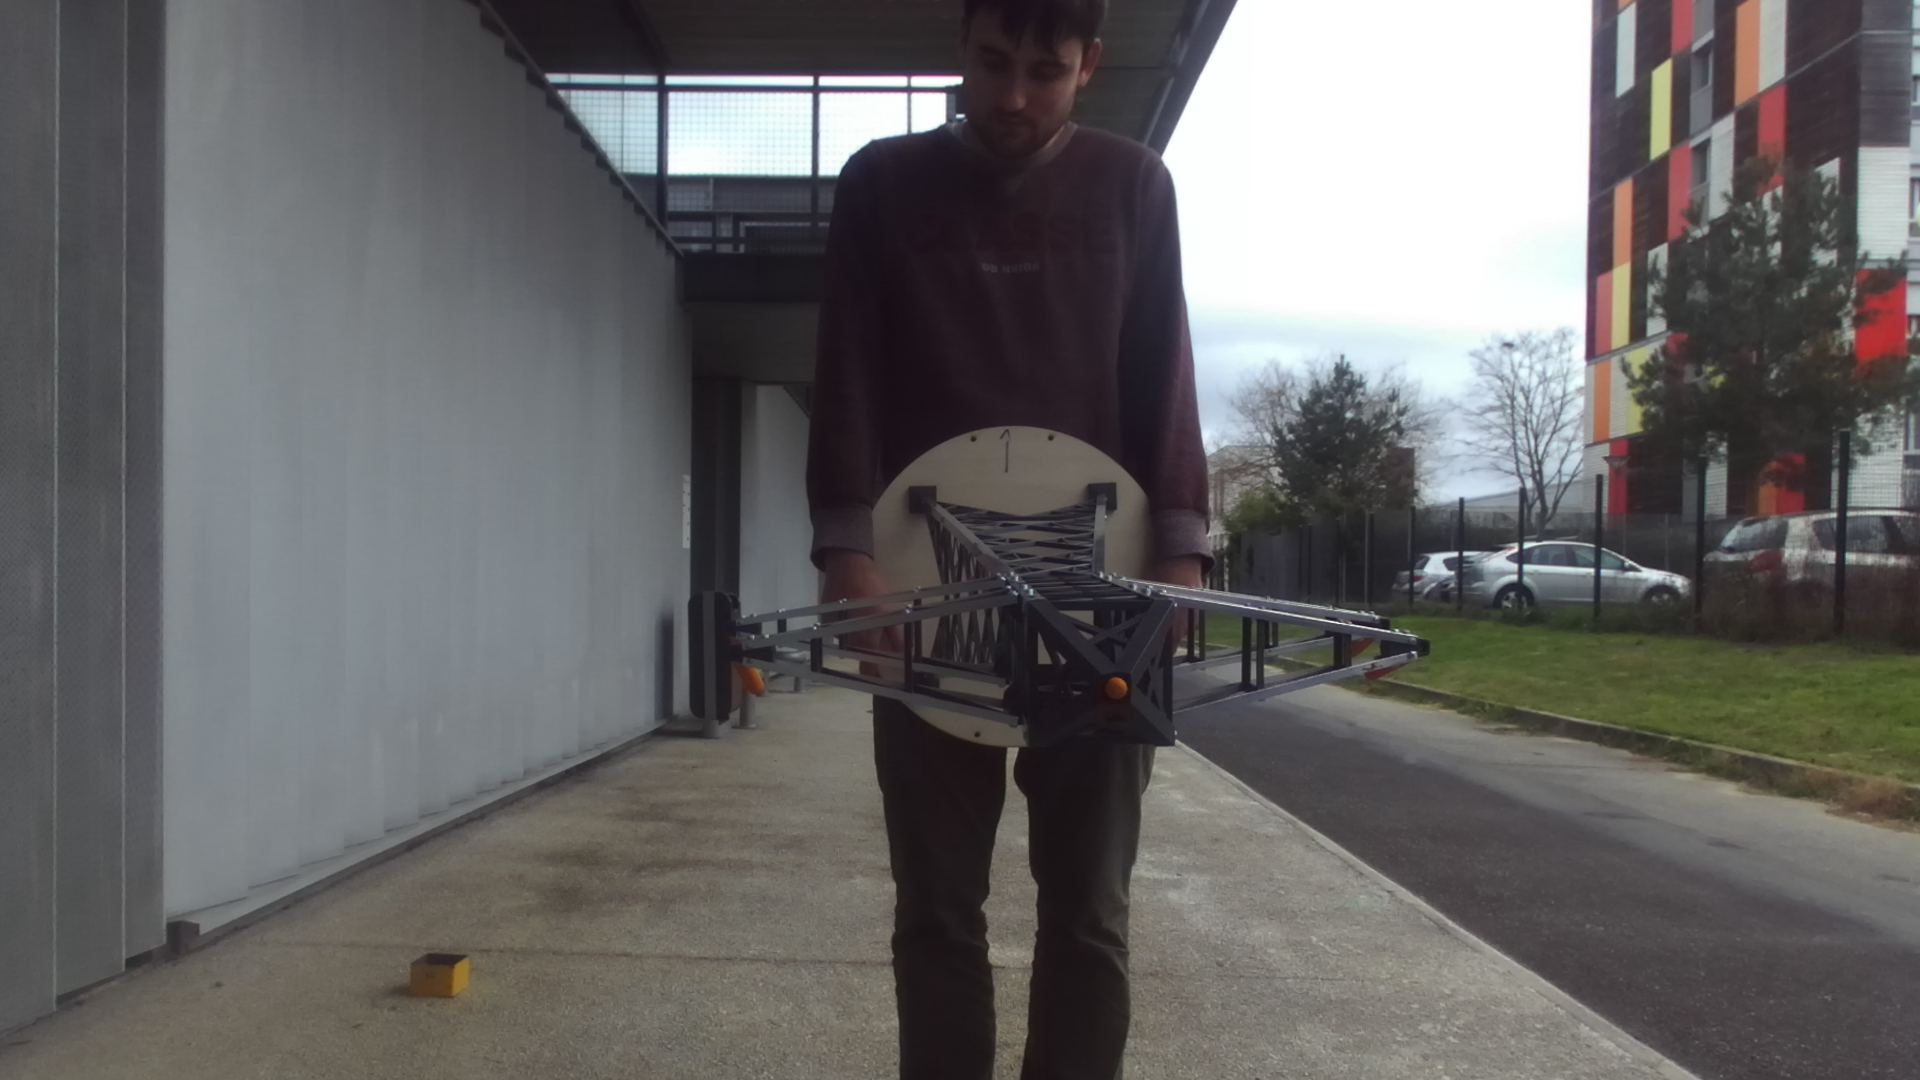pylon_phy: (723, 593, 1433, 754)
